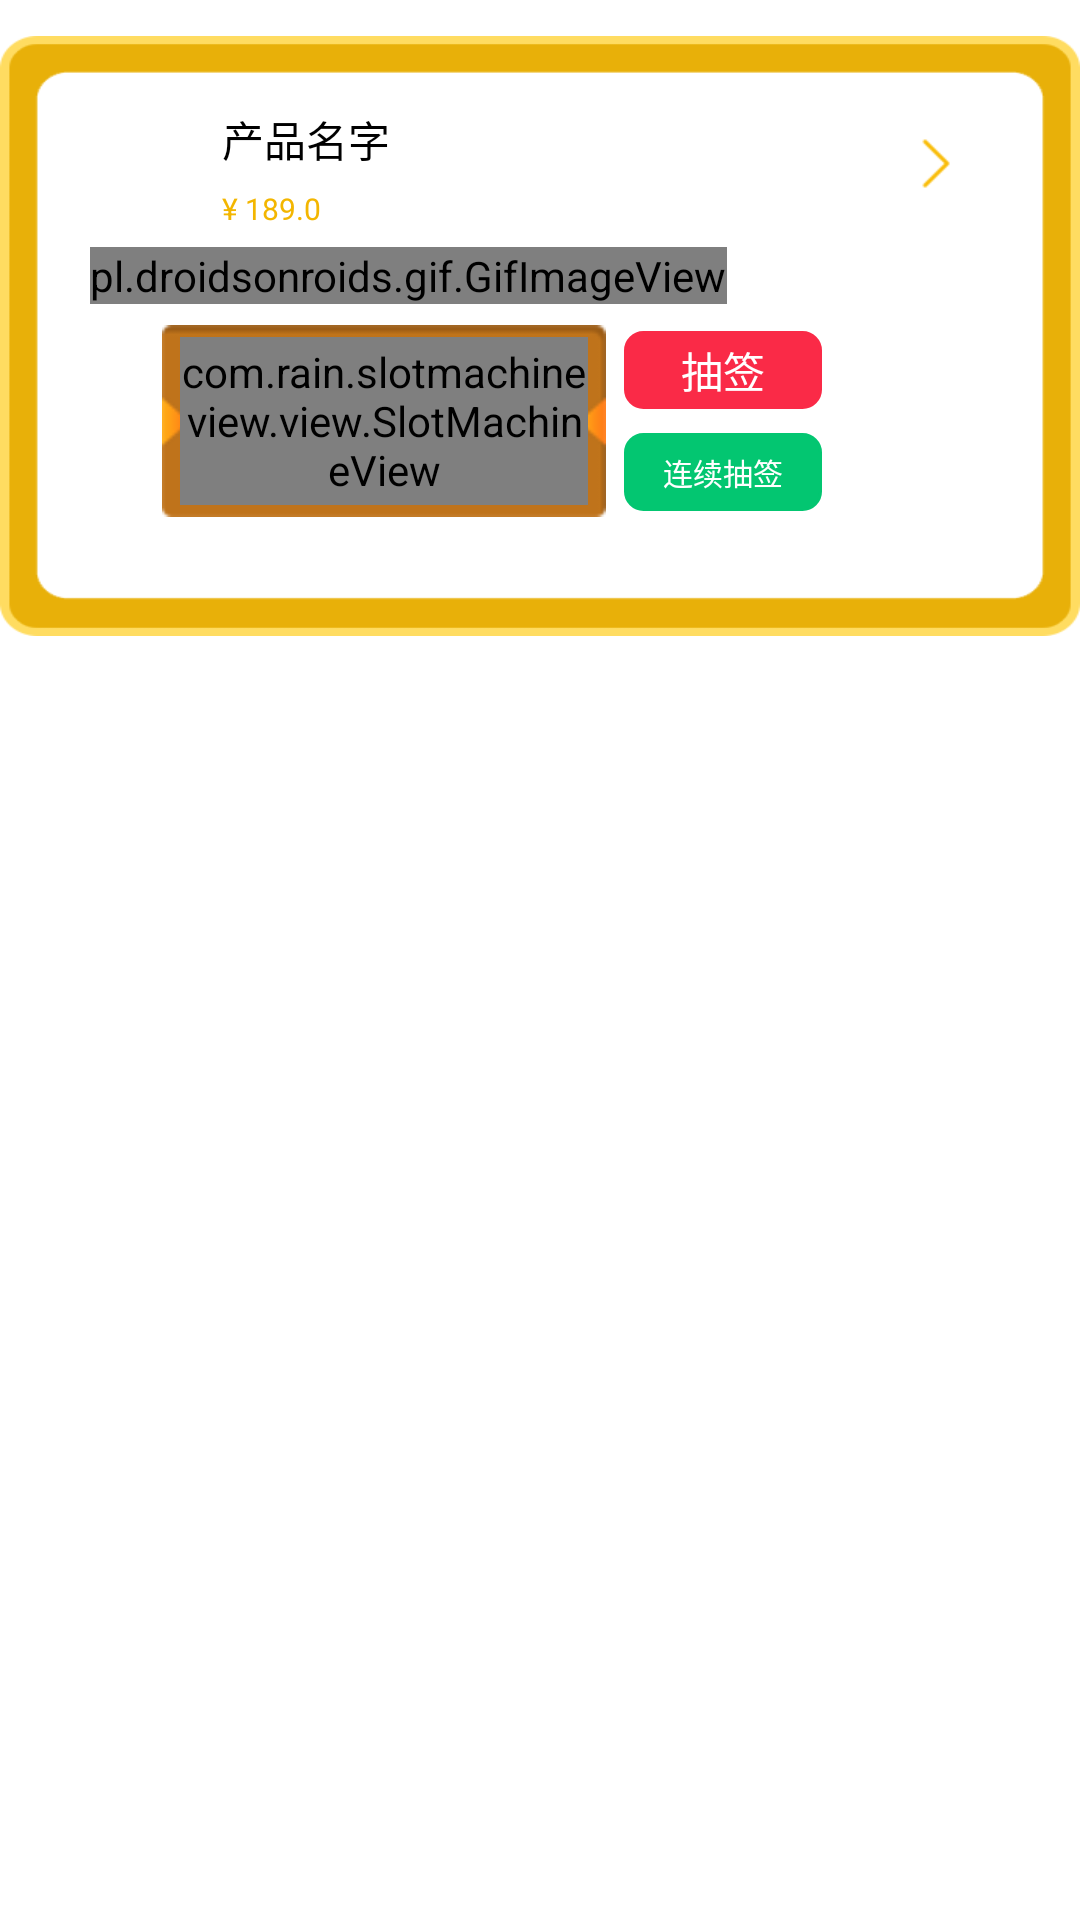

Where to tap for icons on this 1080px×1920px app screen, as (x=x, y=y):
right arrow: (x=936, y=163)
